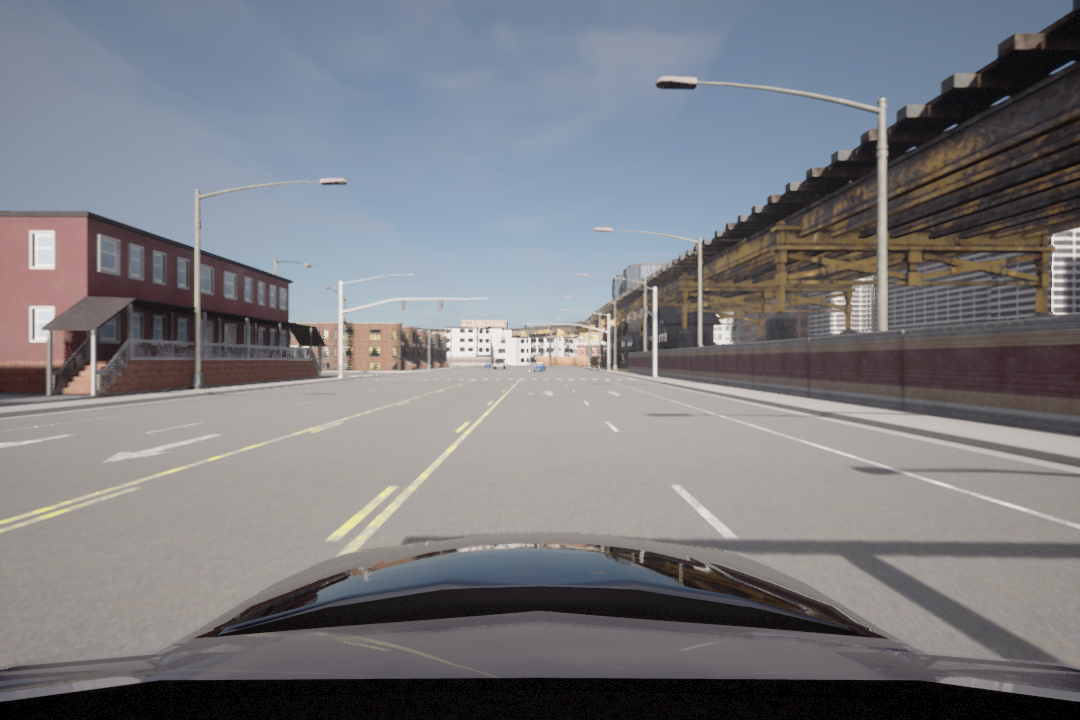RoadSign_forward: (96, 432, 221, 468)
